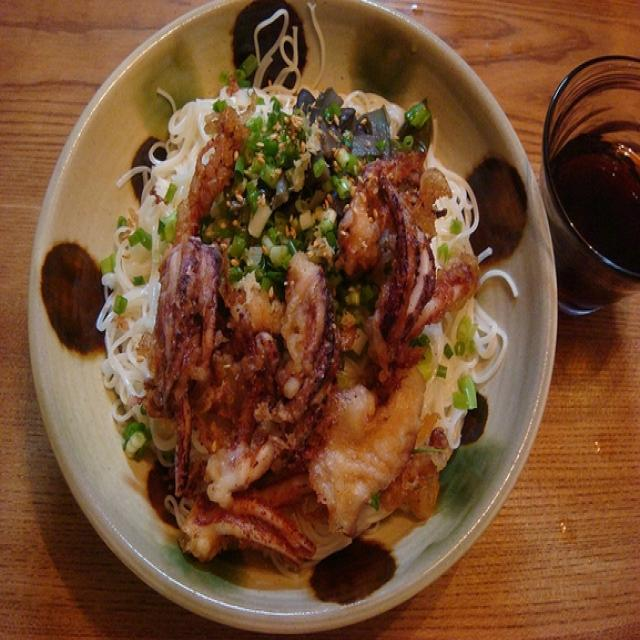面条主食: (58, 26, 511, 608)
